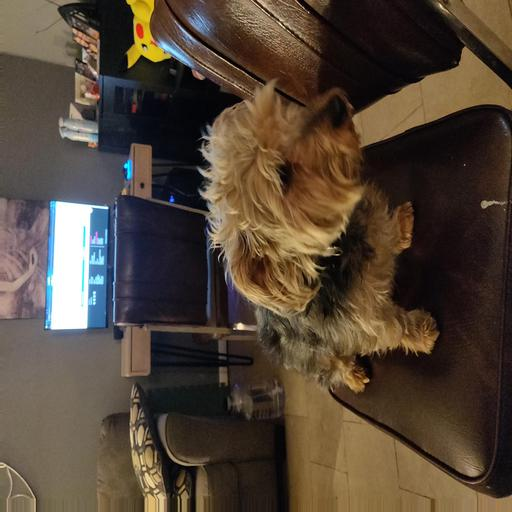dog: (167, 75, 456, 364)
